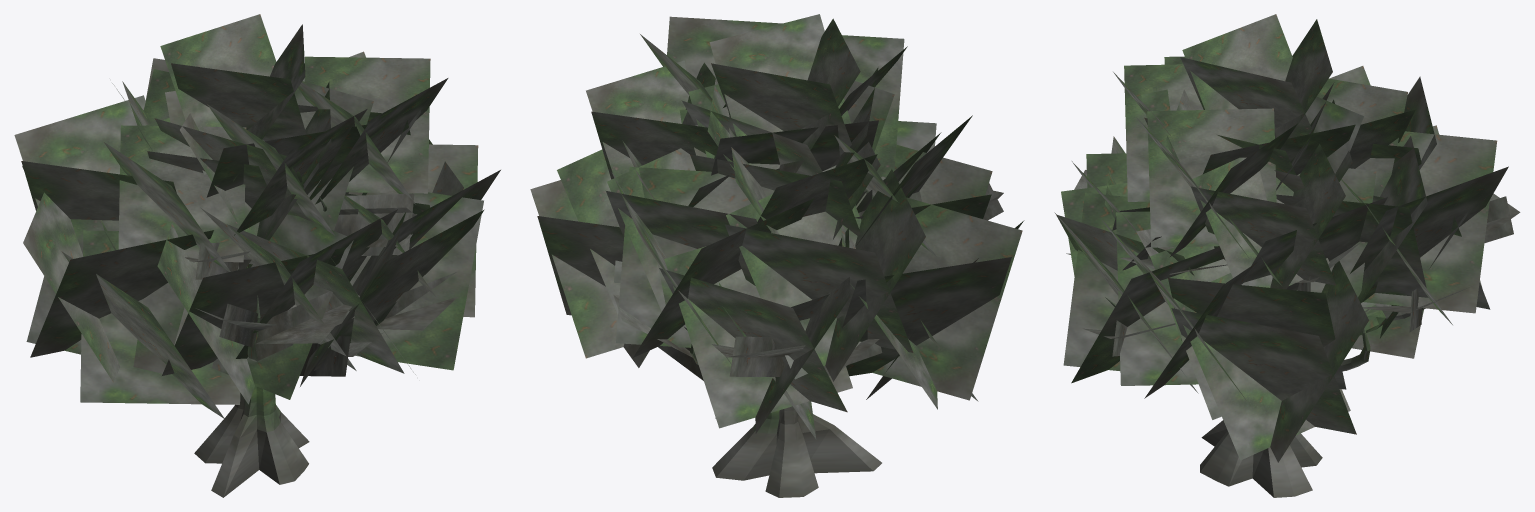
Rendered from old_oak.dae.
3 views of the same model, side by side, from view 1: azimuth 30°, elevation 25°; view 2: azimuth 150°, elevation 25°; view 3: azimuth 270°, elevation 25° (orthographic). The views are drawn at different scales.
Visible parts, largest first — view 1: old_oak; view 2: old_oak; view 3: old_oak.
Part boxes in pixels (box(x1,y1,x2,y2)): old_oak: box(14, 14, 500, 497); old_oak: box(530, 14, 1024, 497); old_oak: box(1054, 14, 1520, 497).
Bounding box in the file's own units: 113 × 101 × 99.08.
